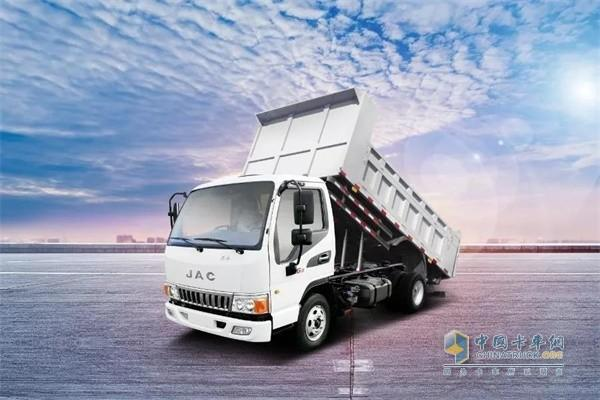truck: (156, 87, 466, 351)
